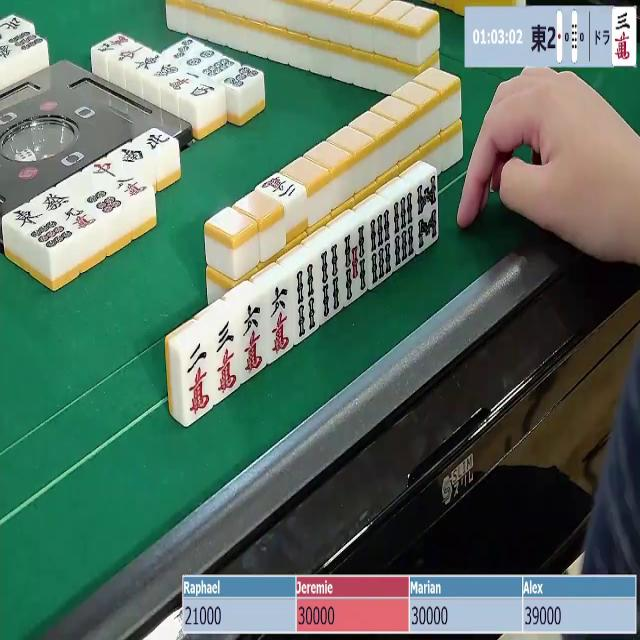2C: (182, 337, 216, 421), (260, 171, 300, 201)
3C: (211, 318, 243, 398), (613, 9, 637, 66)
4B: (294, 263, 322, 343), (318, 244, 342, 323)
5B: (342, 227, 369, 307)
6B: (368, 208, 395, 288), (391, 192, 416, 271)
6C: (240, 299, 271, 376), (268, 284, 297, 360)
8B: (414, 174, 438, 253)
9D: (29, 215, 74, 254)
